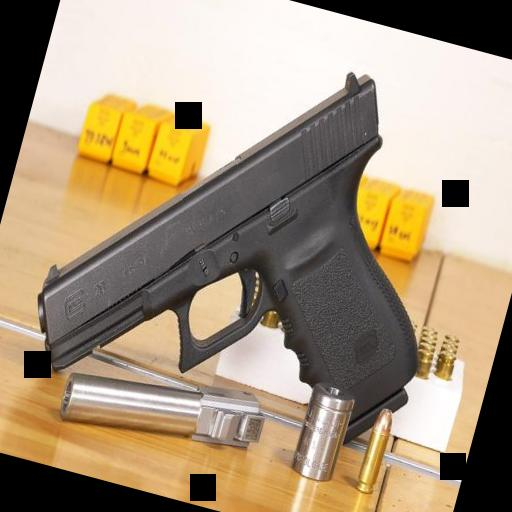Handgun: (6, 0, 488, 454)
